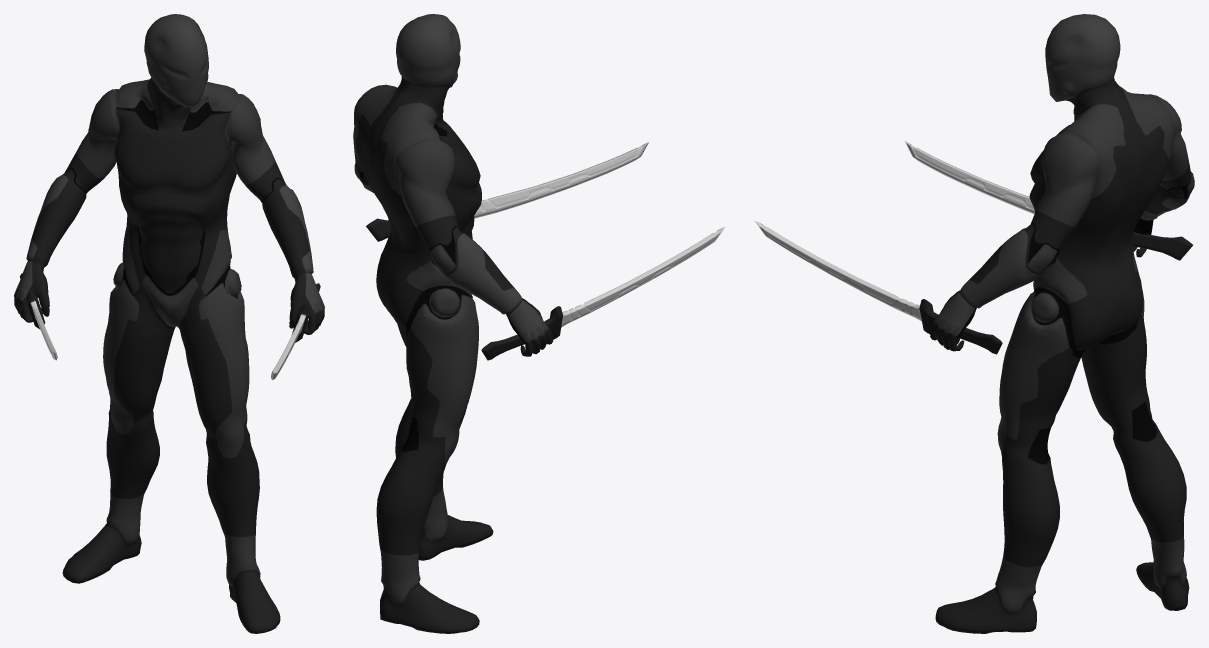
The picture shows the model from 3 angles, left to right: view 1: azimuth 30°, elevation 25°; view 2: azimuth 150°, elevation 25°; view 3: azimuth 270°, elevation 25°; orthographic projection. The views are drawn at different scales.
Parts seen in each view (by area): view 1: Cyborg_Ninja_Killer, Sword_l, Sword_l001; view 2: Cyborg_Ninja_Killer, Sword_l001, Sword_l; view 3: Cyborg_Ninja_Killer, Sword_l, Sword_l001.
Boxes of the visible parts, x1=… form: Cyborg_Ninja_Killer: x1=14, y1=14, x2=324, y2=633; Sword_l: x1=271, y1=283, x2=320, y2=380; Sword_l001: x1=20, y1=273, x2=57, y2=360; Cyborg_Ninja_Killer: x1=353, y1=14, x2=553, y2=633; Sword_l001: x1=481, y1=226, x2=725, y2=360; Sword_l: x1=366, y1=142, x2=648, y2=241; Cyborg_Ninja_Killer: x1=930, y1=14, x2=1194, y2=633; Sword_l: x1=754, y1=220, x2=1002, y2=354; Sword_l001: x1=905, y1=141, x2=1192, y2=260.
Size of the model in its own units: 105 by 182 by 123.
2 materials, 2 textured.
